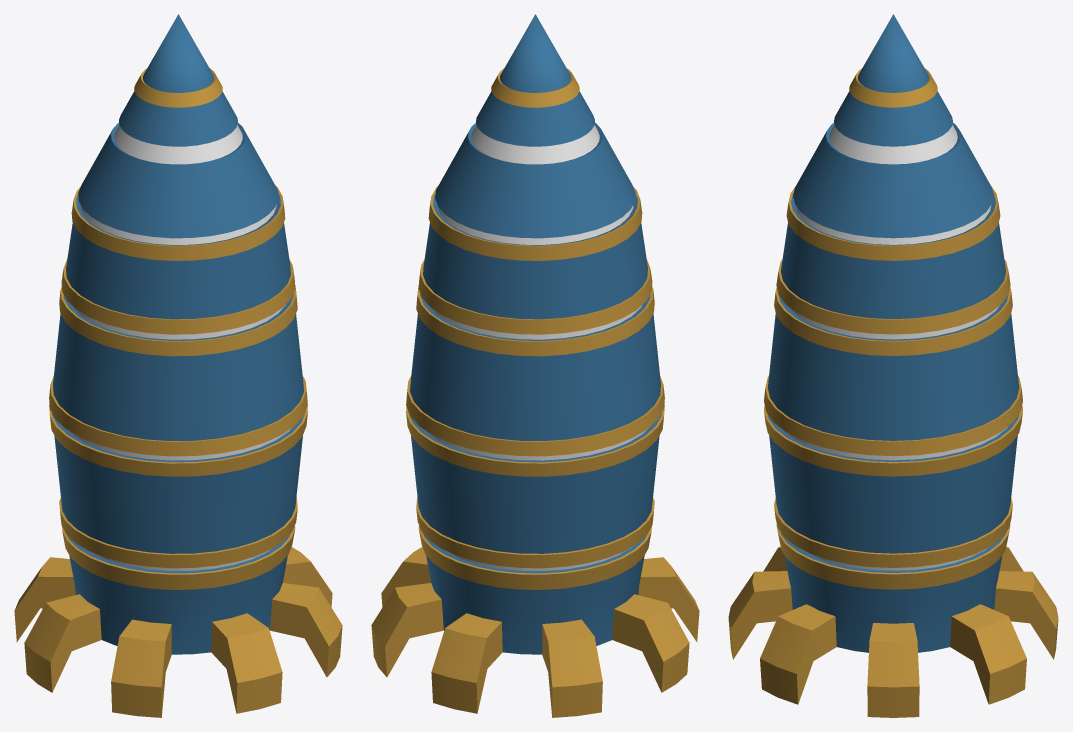
The model's file is missile.fbx.
3 views of the same model, side by side, from view 1: azimuth 30°, elevation 25°; view 2: azimuth 150°, elevation 25°; view 3: azimuth 270°, elevation 25° (orthographic).
Parts seen in each view (by area): view 1: Cone; view 2: Cone; view 3: Cone.
Part boxes in pixels (x1,y1,x2,y2): Cone: [14, 14, 342, 717]; Cone: [371, 14, 699, 717]; Cone: [728, 14, 1058, 717].
Bounding box in the file's own units: 29.11 × 61.83 × 29.11.
